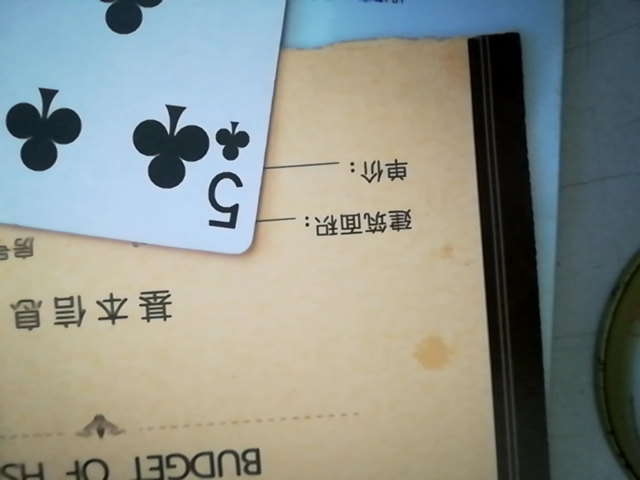mh 5: (7, 1, 307, 255)
